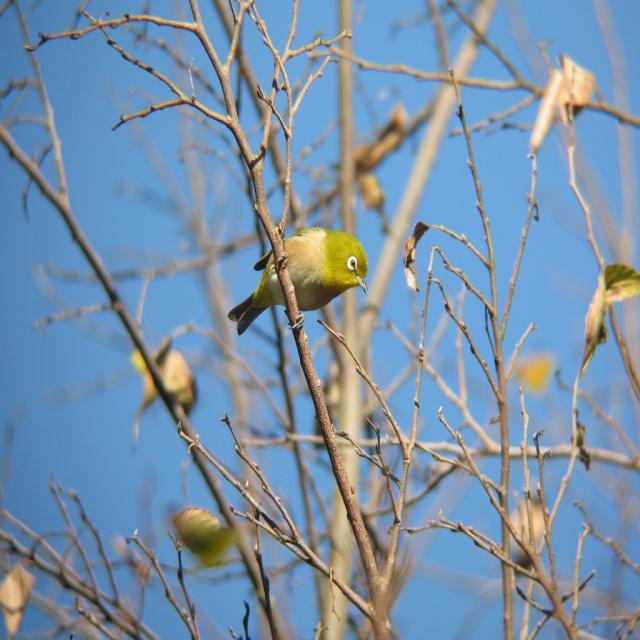bird: (233, 222, 366, 336)
